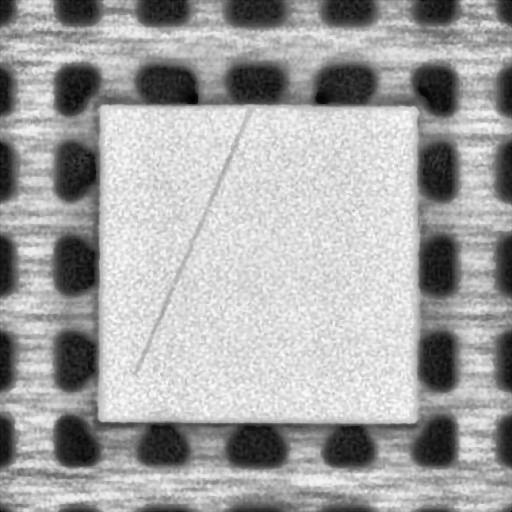DIE_CRACK: (132, 108, 250, 372)
